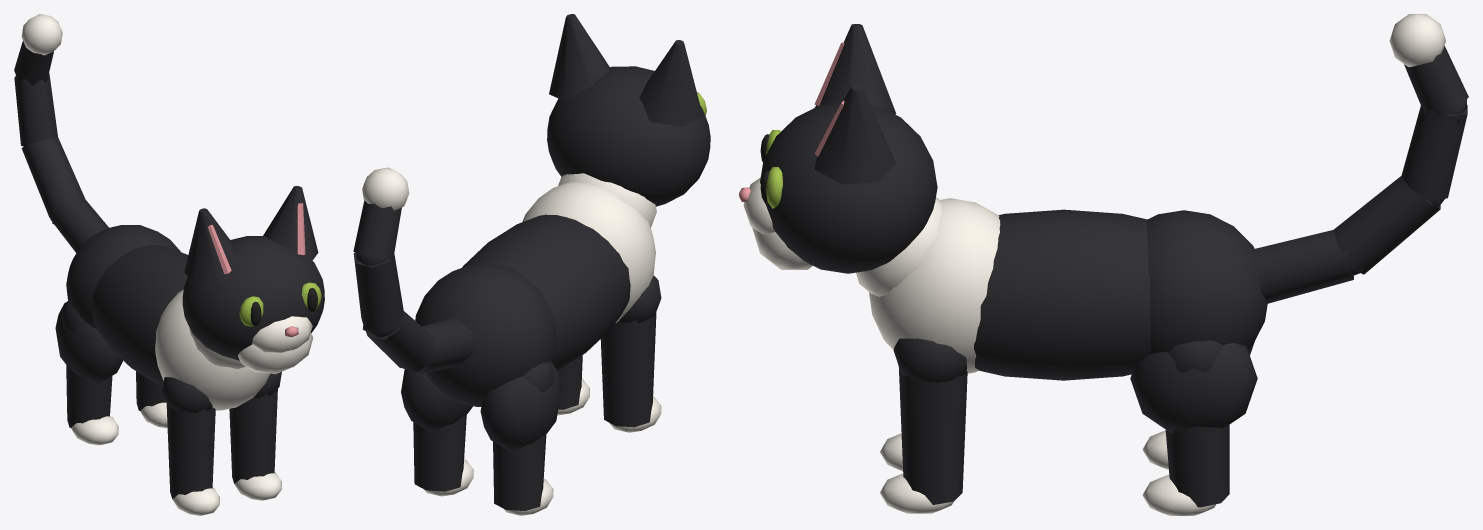
File: pet_cat_tuxedo.glb
The picture shows the model from 3 angles, left to right: view 1: azimuth 30°, elevation 25°; view 2: azimuth 150°, elevation 25°; view 3: azimuth 270°, elevation 25°; orthographic projection. The views are drawn at different scales.
Visible parts, largest first — view 1: head, body, tail, leg_br, leg_fr, leg_fl, leg_bl; view 2: body, head, tail, leg_br, leg_fr, leg_bl, leg_fl; view 3: body, head, tail, leg_bl, leg_fl.
Part boxes in pixels (left/top/right/bottom): head: left=182, top=186, right=324, bottom=374; body: left=66, top=225, right=269, bottom=410; tail: left=14, top=14, right=108, bottom=252; leg_br: left=55, top=301, right=122, bottom=445; leg_fr: left=162, top=377, right=219, bottom=515; leg_fl: left=229, top=372, right=281, bottom=500; leg_bl: left=136, top=371, right=167, bottom=428; body: left=415, top=182, right=655, bottom=406; head: left=547, top=14, right=710, bottom=227; tail: left=353, top=167, right=473, bottom=372; leg_br: left=480, top=362, right=561, bottom=515; leg_fr: left=600, top=275, right=661, bottom=432; leg_bl: left=401, top=369, right=473, bottom=496; leg_fl: left=557, top=355, right=589, bottom=415; body: left=869, top=198, right=1267, bottom=380; head: left=739, top=24, right=942, bottom=296; tail: left=1252, top=14, right=1468, bottom=303; leg_bl: left=1130, top=340, right=1257, bottom=515; leg_fl: left=880, top=338, right=967, bottom=513.
Size of the model in its own units: 0.14 by 0.37 by 0.5151.
